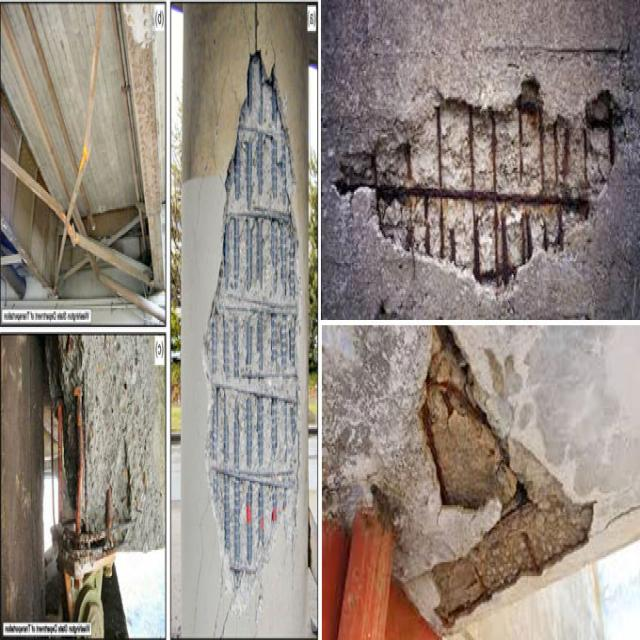Spalling: (330, 52, 632, 296), (197, 32, 310, 624), (403, 325, 610, 640), (39, 330, 138, 569)
